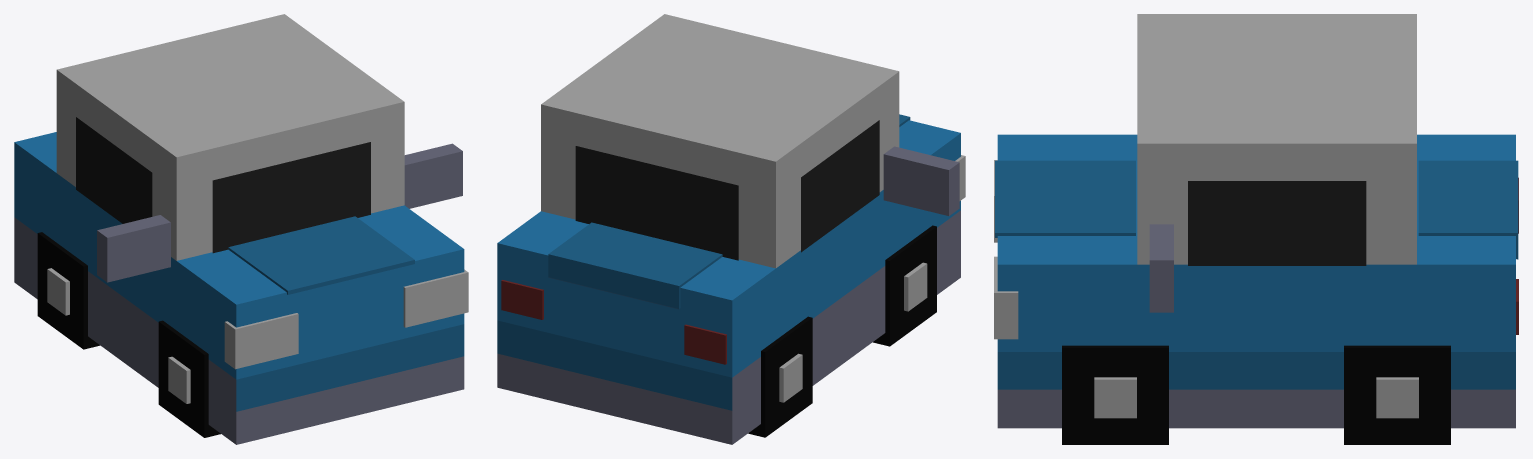
Rendered from car.fbx.
The picture shows the model from 3 angles, left to right: view 1: azimuth 30°, elevation 25°; view 2: azimuth 150°, elevation 25°; view 3: azimuth 270°, elevation 25°; orthographic projection. The views are drawn at different scales.
Visible parts, largest first — view 1: car; view 2: car; view 3: car.
Boxes of the visible parts, x1=… form: car: x1=14, y1=14, x2=468, y2=444; car: x1=497, y1=14, x2=965, y2=444; car: x1=994, y1=14, x2=1518, y2=444.
Size of the model in its own units: 2.25 by 1.55 by 2.46.
